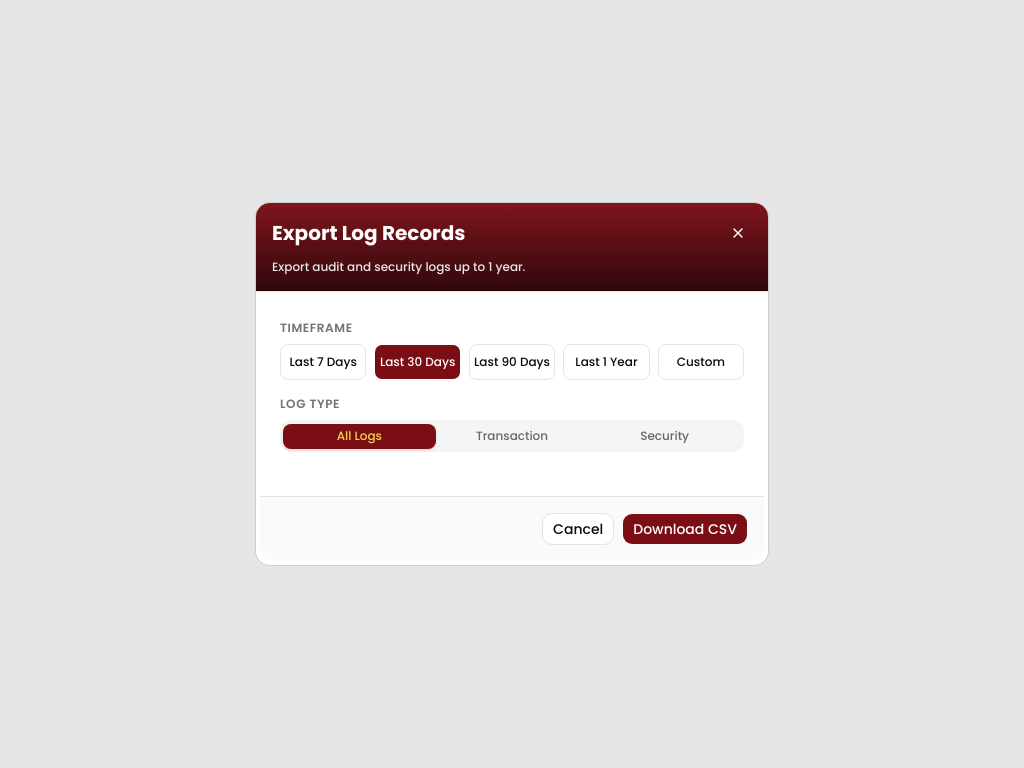
ExportLogsModal › does NOT show From and To fields when preset is selected, but shows them when Custom is selected
The width and height of the screenshot is (1024, 768).
Expected: the text "From" is not shown
Note: Click "Custom" preset
Click the button "Custom" at (701, 362), box [658,344,744,380]
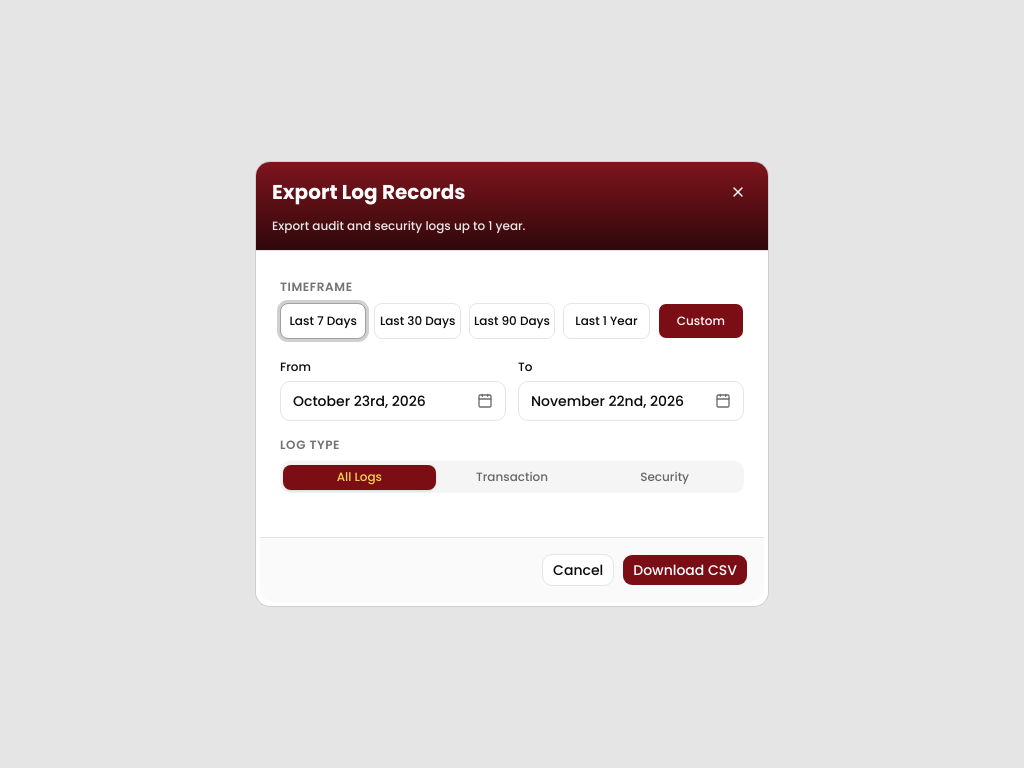
Expected: the text "From" is shown, [280,358,311,375]
Expected: the text "To" is shown, [518,358,532,375]
